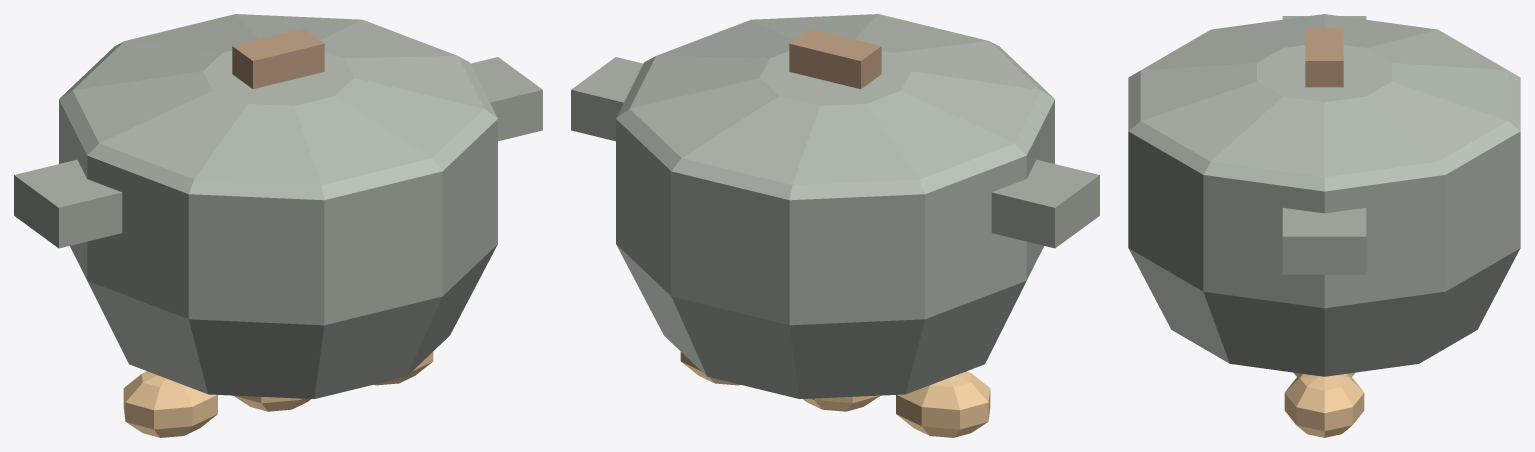
Rendered from crafted-pot-1.glb.
The picture shows the model from 3 angles, left to right: view 1: azimuth 30°, elevation 25°; view 2: azimuth 150°, elevation 25°; view 3: azimuth 270°, elevation 25°; orthographic projection. The views are drawn at different scales.
Visible parts, largest first — view 1: pot, lid, handle, ember-0, lid-handle, handle-1, ember-1; view 2: pot, lid, handle, ember-0, lid-handle, handle-1, ember-1; view 3: pot, lid, handle-1, ember-2, lid-handle.
Part boxes in pixels (<box>): pot: <box>59,100,497,398</box>; lid: <box>59,14,497,200</box>; handle: <box>14,159,122,248</box>; ember-0: <box>123,371,217,437</box>; lid-handle: <box>232,28,324,89</box>; handle-1: <box>471,57,542,141</box>; ember-1: <box>233,395,310,411</box>; pot: <box>616,100,1054,398</box>; lid: <box>616,14,1054,200</box>; handle: <box>991,159,1099,248</box>; ember-0: <box>896,371,990,437</box>; lid-handle: <box>789,28,881,89</box>; handle-1: <box>571,57,642,141</box>; ember-1: <box>803,395,880,411</box>; pot: <box>1128,131,1520,376</box>; lid: <box>1128,14,1520,191</box>; handle-1: <box>1282,207,1366,274</box>; ember-2: <box>1284,373,1364,437</box>; lid-handle: <box>1305,28,1343,87</box>.
Size of the model in its own units: 0.81 by 0.5775 by 0.6087.
